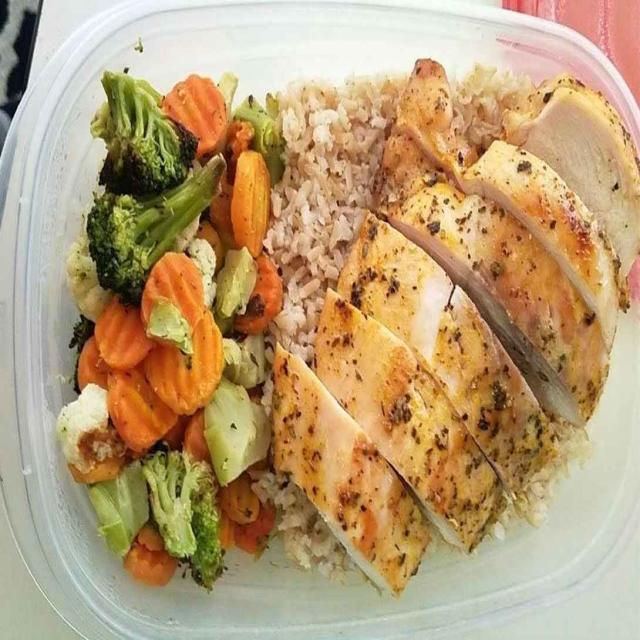arroz: (276, 77, 377, 276)
carne de cerdo: (396, 62, 621, 589)
